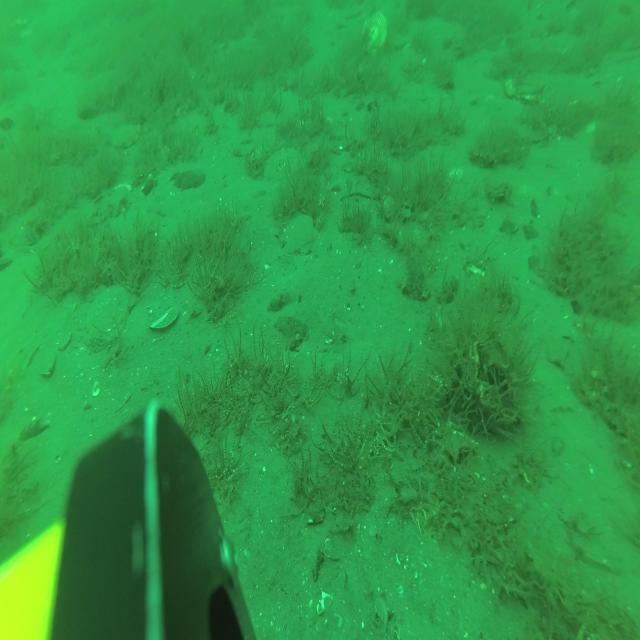scallop: (91, 286, 139, 332), (507, 70, 547, 104), (279, 219, 317, 252), (360, 14, 386, 55), (114, 122, 138, 148)
